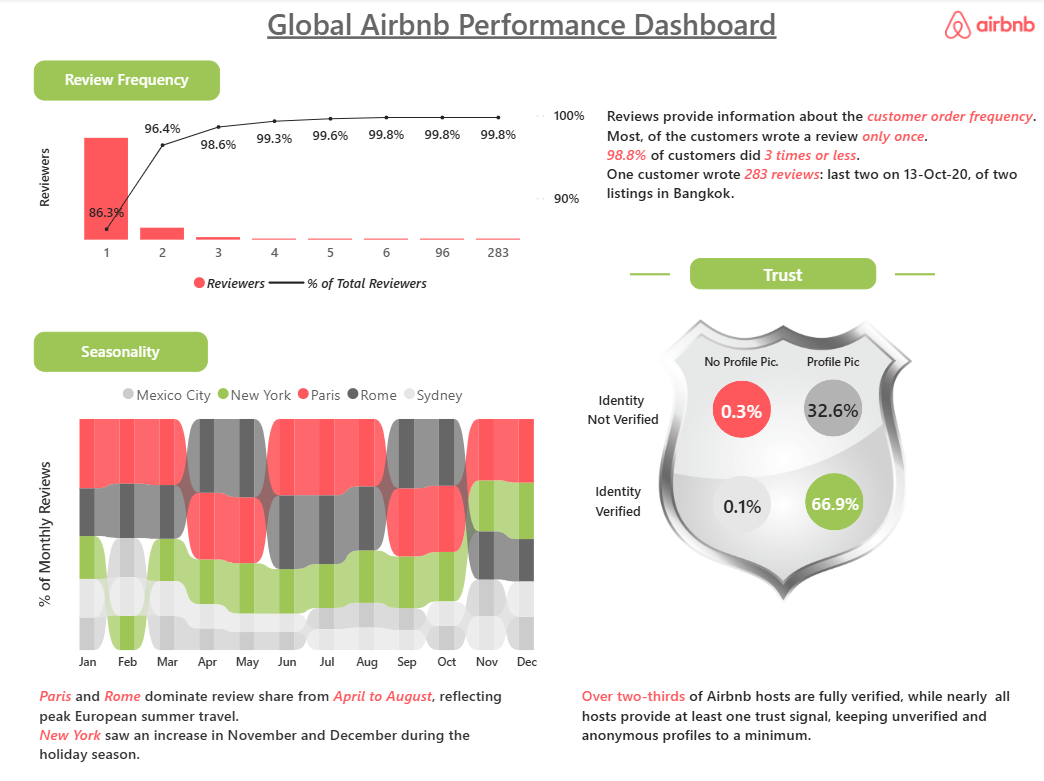

The dashboard page shown, as its layout file describes it:
{"tool":"powerbi","page":{"name":"Reviews","canvas":[960,720],"ordinal":2},"visuals":[{"type":"textbox","box":[180.3,0,598.5,57.4],"z":0},{"type":"image","box":[868.4,4.6,82.7,40.2],"z":1000},{"type":"textbox","box":[31,57.4,171.2,36.8],"z":2000},{"type":"textbox","box":[552.5,94.2,407.8,103.4],"z":5000},{"type":"textbox","box":[634.1,238.9,171.2,28.7],"z":6000},{"type":"shape","box":[578.9,237.8,36.8,32.2],"z":14000},{"type":"textbox","box":[529.5,627.2,421.6,64.3],"z":15000},{"type":"lineStackedColumnComboChart","fields":{"Category":["Reviews.Reviews Per Reviewer"],"Y":["Reviews.Reviewers"],"Y2":["Reviews.Cumulative % review frequency"]},"box":[31,94.2,512.3,186.1],"z":15001},{"type":"shape","box":[822.5,237.8,36.8,32.2],"z":15002},{"type":"image","box":[488.2,226.3,462.9,400.9],"z":15003},{"type":"shape","box":[654.7,351.5,54,52.8],"z":15004,"group":"g5"},{"type":"shape","box":[655.1,438.9,54,52.8],"z":15005,"group":"g3"},{"type":"shape","box":[739.7,436.5,54,52.8],"z":15006,"group":"g2"},{"type":"shape","box":[738.6,350.4,54,52.8],"z":15007,"group":"g4"},{"type":"cardVisual","fields":{"Data":["Listings.NotVerified_NoProfile %"]},"box":[642.1,360.7,79.3,34.5],"z":15008,"group":"g5"},{"type":"cardVisual","fields":{"Data":["Listings.NotVerified_Profile %"]},"box":[722.5,358.4,86.2,37.9],"z":15009,"group":"g4"},{"type":"cardVisual","fields":{"Data":["Listings.Verified_NoProfile %"]},"box":[646.9,449.2,71.2,32.2],"z":15010,"group":"g3"},{"type":"cardVisual","fields":{"Data":["Listings.Verified_Profile %"]},"box":[724.8,446.8,86.2,33.3],"z":15011,"group":"g2"},{"type":"textbox","box":[642.1,319.3,82.7,27.6],"z":15012},{"type":"textbox","box":[736.3,319.3,59.7,33.3],"z":15013},{"type":"textbox","box":[529.5,354.9,86.2,45.9],"z":15014},{"type":"textbox","box":[538.7,438.8,58.6,49.4],"z":15015},{"type":"group","id":"g1","title":"Group 1","box":[646.9,438.9,71.2,52.8],"z":15016},{"type":"group","id":"g2","title":"Group 3","box":[724.8,436.5,86.2,52.8],"z":15017},{"type":"group","id":"g3","title":"Group 2","box":[646.9,438.9,71.2,52.8],"z":15017,"group":"g1"},{"type":"group","id":"g4","title":"Group 4","box":[722.5,350.4,86.2,52.8],"z":15018},{"type":"group","id":"g5","title":"Group 5","box":[642.1,351.5,79.3,52.8],"z":15019},{"type":"ribbonChart","fields":{"Category":["Reviews.Review Month"],"Y":["Reviews.% of Monthly Reviews"],"Series":["Listings.city"]},"box":[31,343.5,480.2,283.7],"z":15020},{"type":"textbox","box":[31,306.7,159.7,36.8],"z":15021},{"type":"textbox","box":[31,627.2,457.2,87.3],"z":15022}]}

Visuals, with their boxes in screenshot pixels (x1, y1, x2, y2), scaled from the page's 960x720 canvas onto the 1044x781 screenshot:
textbox: x1=196 y1=0 x2=847 y2=62
image: x1=944 y1=5 x2=1034 y2=49
textbox: x1=34 y1=62 x2=220 y2=102
textbox: x1=601 y1=102 x2=1043 y2=214
textbox: x1=690 y1=259 x2=876 y2=290
shape: x1=630 y1=258 x2=670 y2=293
textbox: x1=576 y1=680 x2=1034 y2=750
lineStackedColumnComboChart - Reviews.Reviews Per Reviewer x Reviews.Reviewers: x1=34 y1=102 x2=591 y2=304
shape: x1=894 y1=258 x2=934 y2=293
image: x1=531 y1=245 x2=1034 y2=680
shape: x1=712 y1=381 x2=771 y2=439
shape: x1=712 y1=476 x2=771 y2=533
shape: x1=804 y1=473 x2=863 y2=531
shape: x1=803 y1=380 x2=862 y2=437
cardVisual - Listings.NotVerified_NoProfile %: x1=698 y1=391 x2=785 y2=429
cardVisual - Listings.NotVerified_Profile %: x1=786 y1=389 x2=879 y2=430
cardVisual - Listings.Verified_NoProfile %: x1=704 y1=487 x2=781 y2=522
cardVisual - Listings.Verified_Profile %: x1=788 y1=485 x2=882 y2=521
textbox: x1=698 y1=346 x2=788 y2=376
textbox: x1=801 y1=346 x2=866 y2=382
textbox: x1=576 y1=385 x2=670 y2=435
textbox: x1=586 y1=476 x2=650 y2=530
"Group 1" group: x1=704 y1=476 x2=781 y2=533
"Group 3" group: x1=788 y1=473 x2=882 y2=531
"Group 2" group: x1=704 y1=476 x2=781 y2=533
"Group 4" group: x1=786 y1=380 x2=879 y2=437
"Group 5" group: x1=698 y1=381 x2=785 y2=439
ribbonChart - Reviews.Review Month x Reviews.% of Monthly Reviews: x1=34 y1=373 x2=556 y2=680
textbox: x1=34 y1=333 x2=207 y2=373
textbox: x1=34 y1=680 x2=531 y2=775
